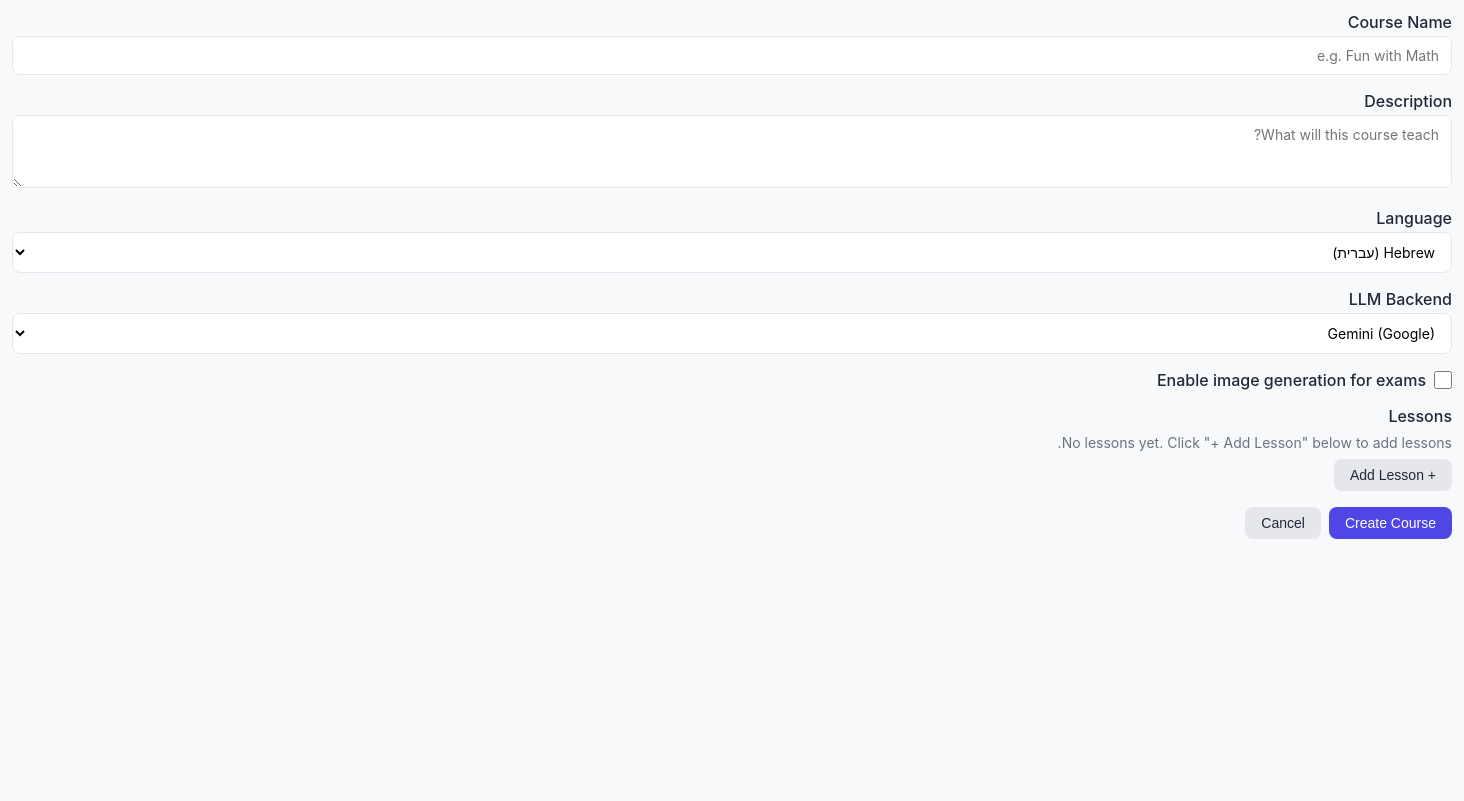
Test case: CourseForm › toggles exam section when + Add Exam is clicked
The image size is (1464, 801).
What coordinates should you click on to do the following:
click the button "+ Add Lesson"
I would click on:
 (1393, 475)
Its box is [1334, 459, 1452, 491].
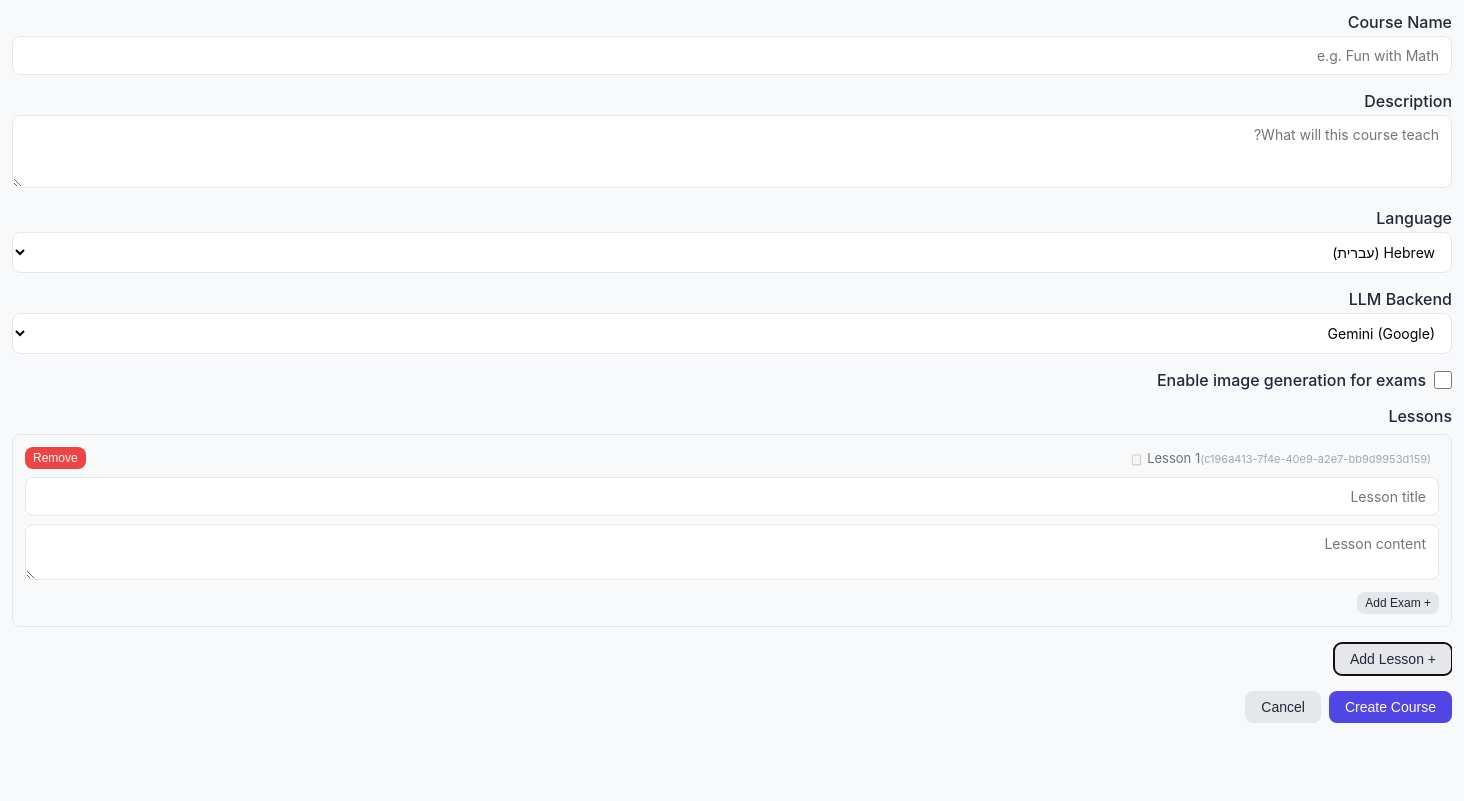
Expected: the button "+ Add Exam" is shown
What coordinates should you click on to do the following:
click the button "+ Add Exam"
I would click on:
 (1398, 603)
Its box is [1357, 592, 1439, 614].
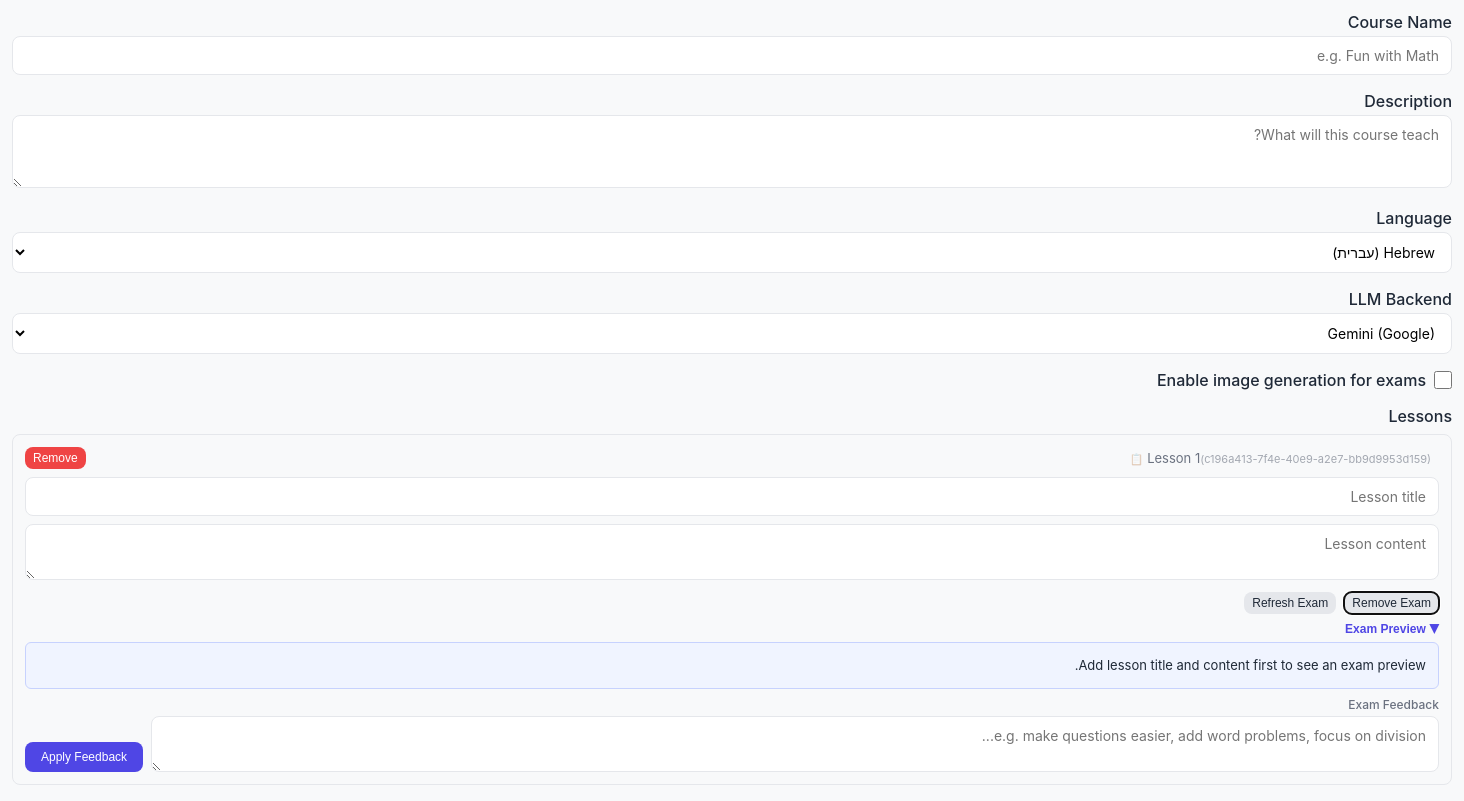
Expected: the button "Remove Exam" is shown
What coordinates should you click on to do the following:
click the button "Remove Exam"
I would click on:
 (1392, 603)
Its box is [1344, 592, 1439, 614].
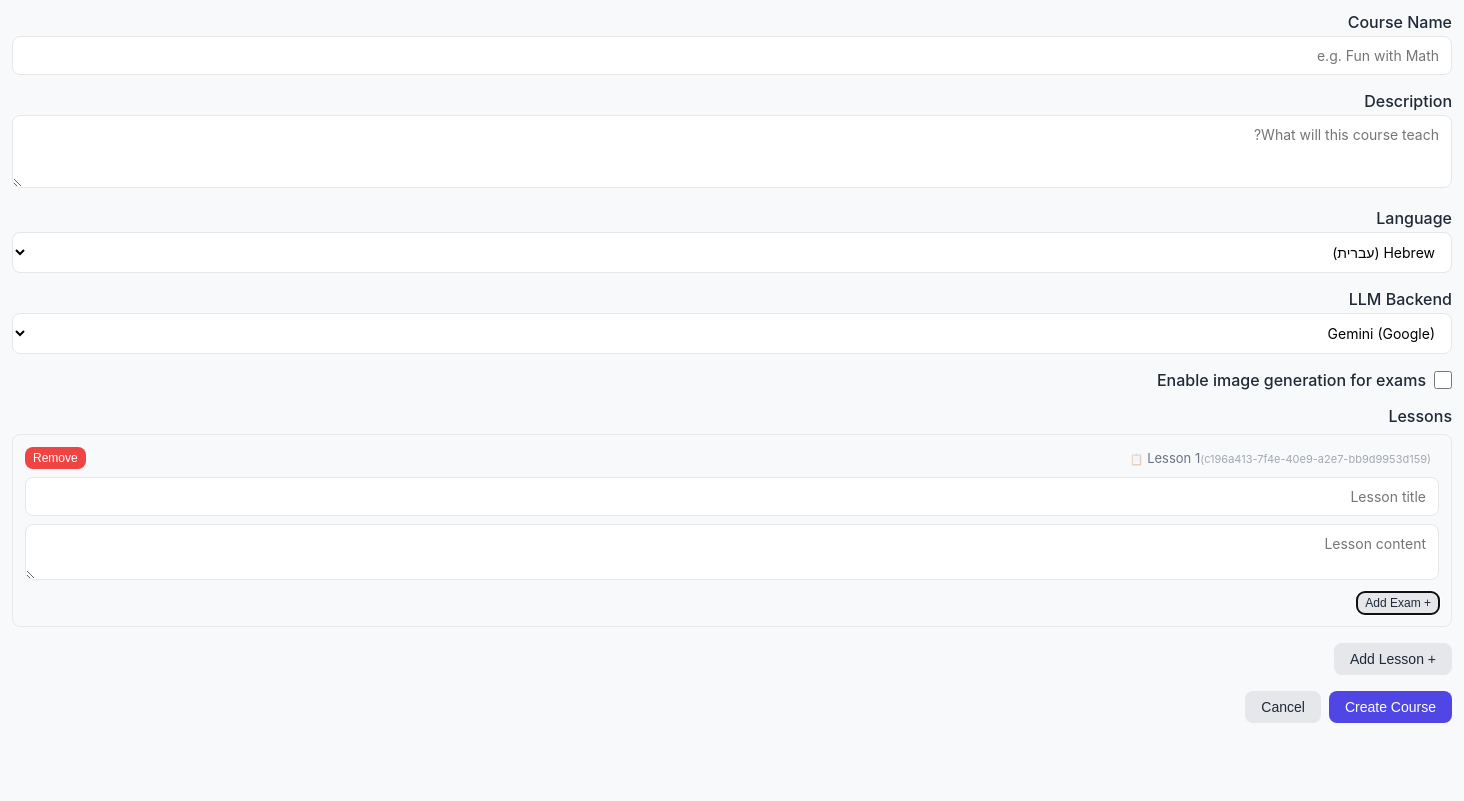
Expected: the button "Remove Exam" is gone
